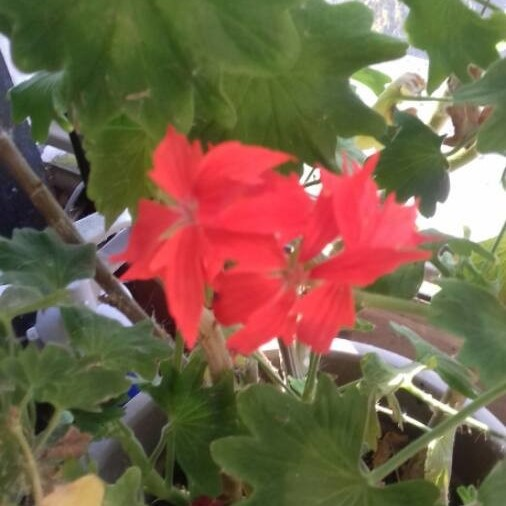obstacle: (119, 106, 417, 366), (15, 0, 396, 170), (37, 323, 400, 491)
